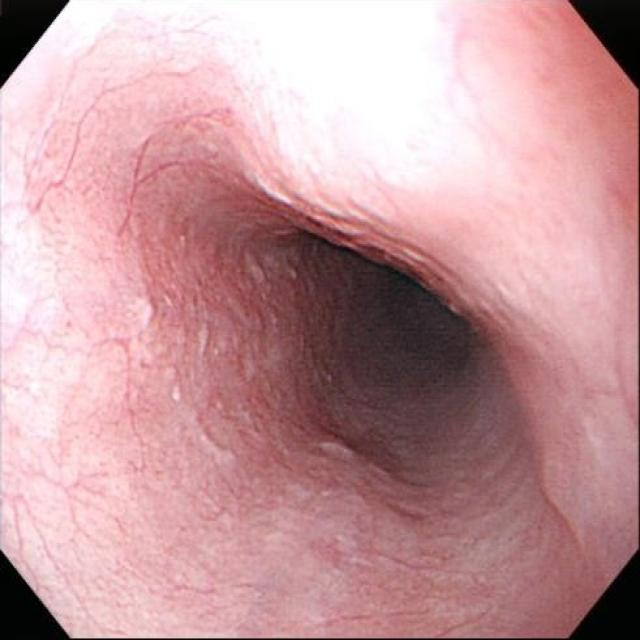A: (214, 255, 298, 338), (315, 421, 400, 471)
E: (327, 233, 465, 356)
